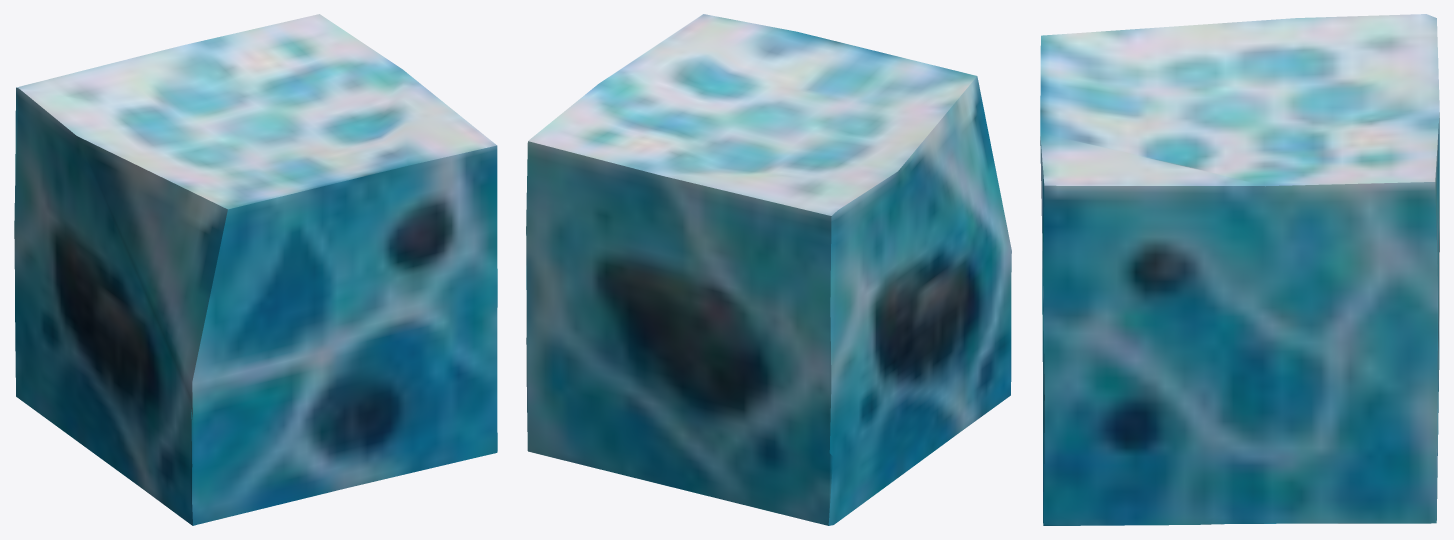
The model's file is b_givre_mur_2_lod1.glb.
3 renders of one model, left to right at view 1: azimuth 30°, elevation 25°; view 2: azimuth 150°, elevation 25°; view 3: azimuth 270°, elevation 25°, orthographic. The views are drawn at different scales.
Visible parts, largest first — view 1: geometry_0; view 2: geometry_0; view 3: geometry_0.
Part boxes in pixels (box(x1,y1,x2,y2)): geometry_0: box(14, 14, 497, 525); geometry_0: box(526, 14, 1011, 525); geometry_0: box(1040, 14, 1439, 525).
Bounding box in the file's own units: 1 × 0.9572 × 1.
Materials: 1 (1 with a texture image).
